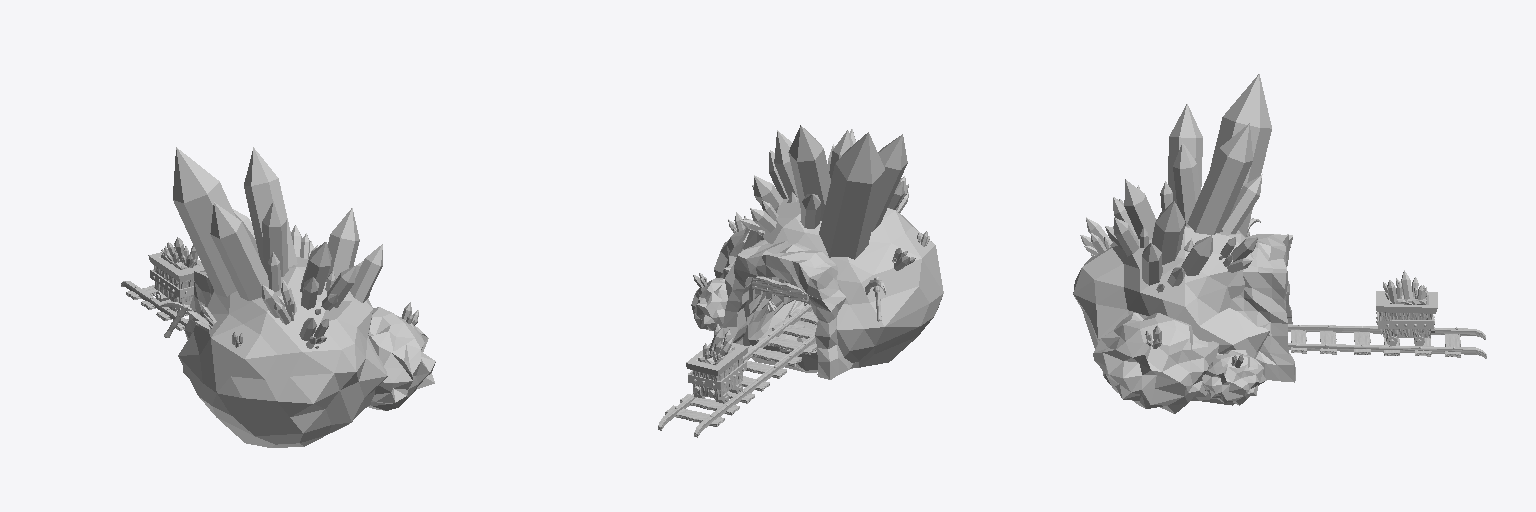
File: mine_1_mid.obj
The picture shows the model from 3 angles: view 1: azimuth 30°, elevation 25°; view 2: azimuth 150°, elevation 25°; view 3: azimuth 270°, elevation 25°; orthographic projection.
Parts seen in each view (by area): view 1: BUDOWLA_Icosphere; view 2: BUDOWLA_Icosphere; view 3: BUDOWLA_Icosphere.
Boxes of the visible parts, <box> form: BUDOWLA_Icosphere: <box>121,147,435,447</box>; BUDOWLA_Icosphere: <box>658,125,943,437</box>; BUDOWLA_Icosphere: <box>1073,74,1486,413</box>.
Bounding box in the file's own units: 8.41 × 10.27 × 13.89.